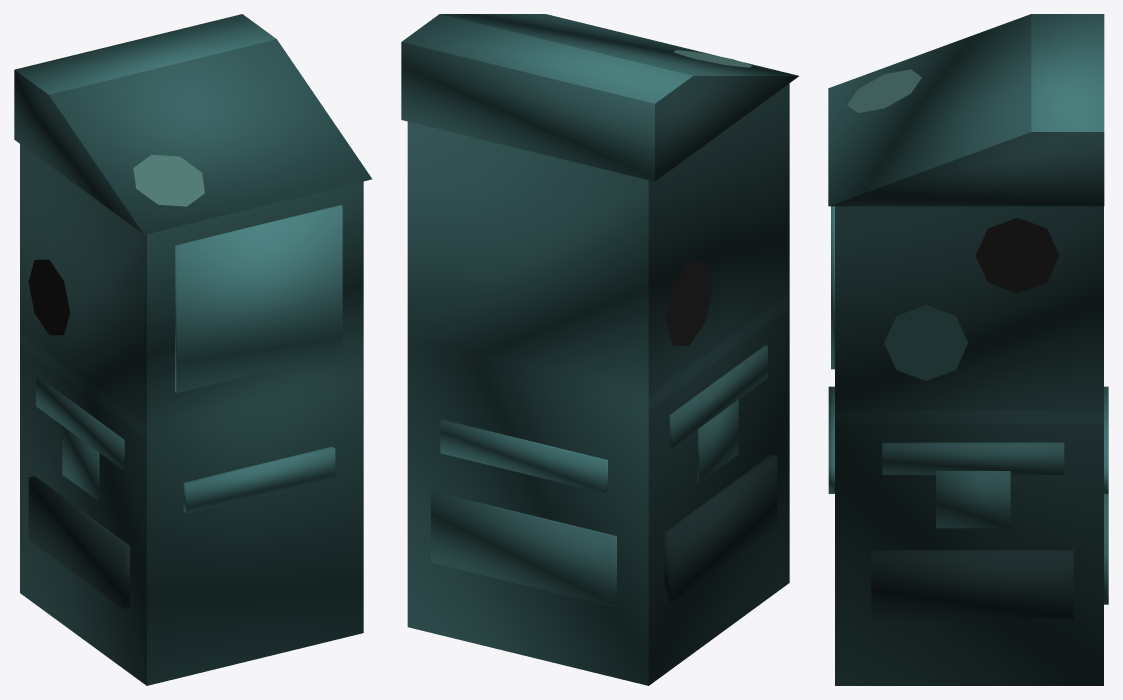
Rendered from furnishings-outdoor-newspaperstand_v1.glb.
The picture shows the model from 3 angles, left to right: view 1: azimuth 30°, elevation 25°; view 2: azimuth 150°, elevation 25°; view 3: azimuth 270°, elevation 25°; orthographic projection. The views are drawn at different scales.
Visible parts, largest first — view 1: NewspaperStand_v1; view 2: NewspaperStand_v1; view 3: NewspaperStand_v1.
Part boxes in pixels (x1,y1,x2,y2): NewspaperStand_v1: (14, 14, 371, 685); NewspaperStand_v1: (401, 14, 798, 685); NewspaperStand_v1: (828, 14, 1108, 685).
Size of the model in its own units: 0.3736 by 0.8209 by 0.3748.
